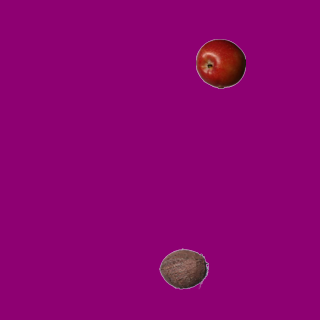Apple Braeburn: (195, 38, 245, 88)
Cocos: (158, 243, 208, 293)
